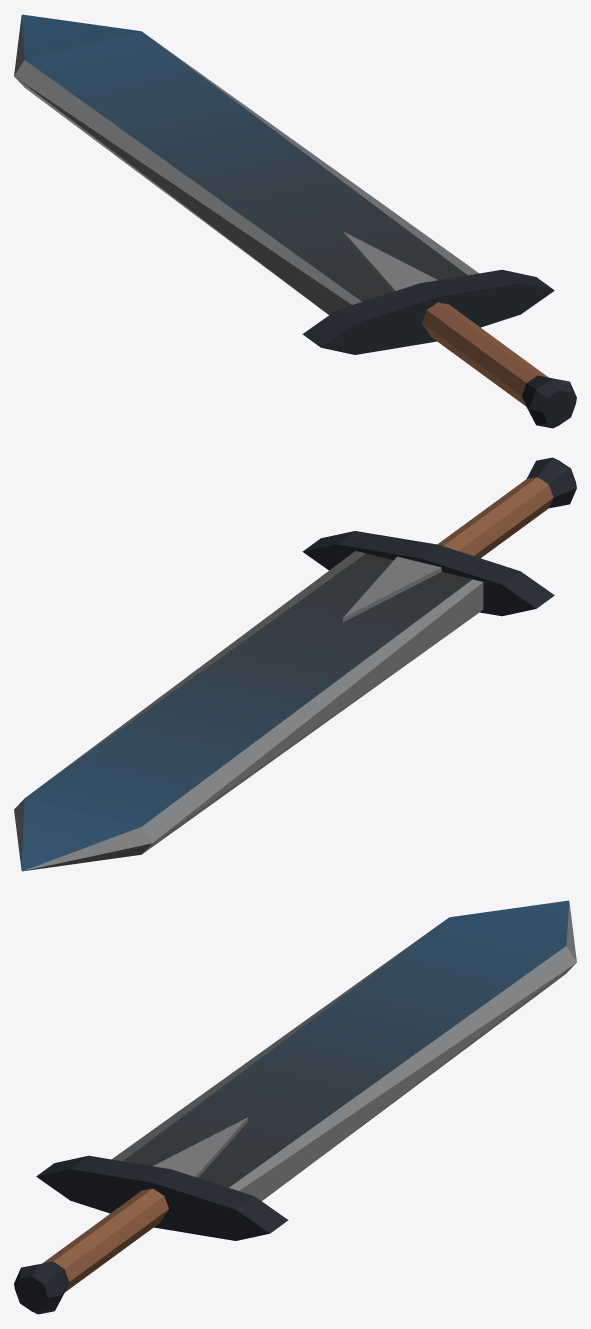
File: bluesword.glb
3 renders of one model, top to bottom at view 1: azimuth 30°, elevation 25°; view 2: azimuth 150°, elevation 25°; view 3: azimuth 330°, elevation 25°, orthographic.
Visible parts, largest first — view 1: Cube; view 2: Cube; view 3: Cube.
Part boxes in pixels (bbox=[...]): Cube: bbox=[14, 14, 576, 428]; Cube: bbox=[14, 457, 576, 871]; Cube: bbox=[14, 900, 576, 1314].
Bounding box in the file's own units: 0.88 × 0.18 × 3.5.
Materials: 1 (1 with a texture image).
